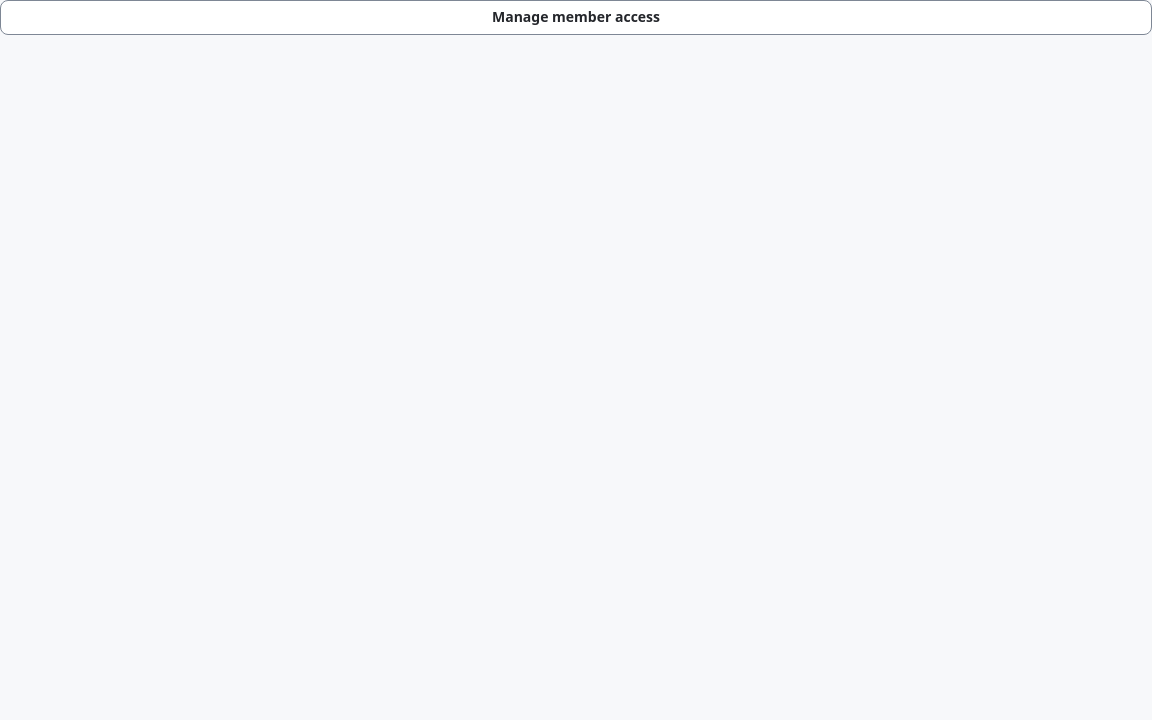
Scenario: organization member controls › withholds roster and management actions when current membership is a viewer
The width and height of the screenshot is (1152, 720).
Click the button "Manage member access" at (576, 17), box [0,0,1151,35]
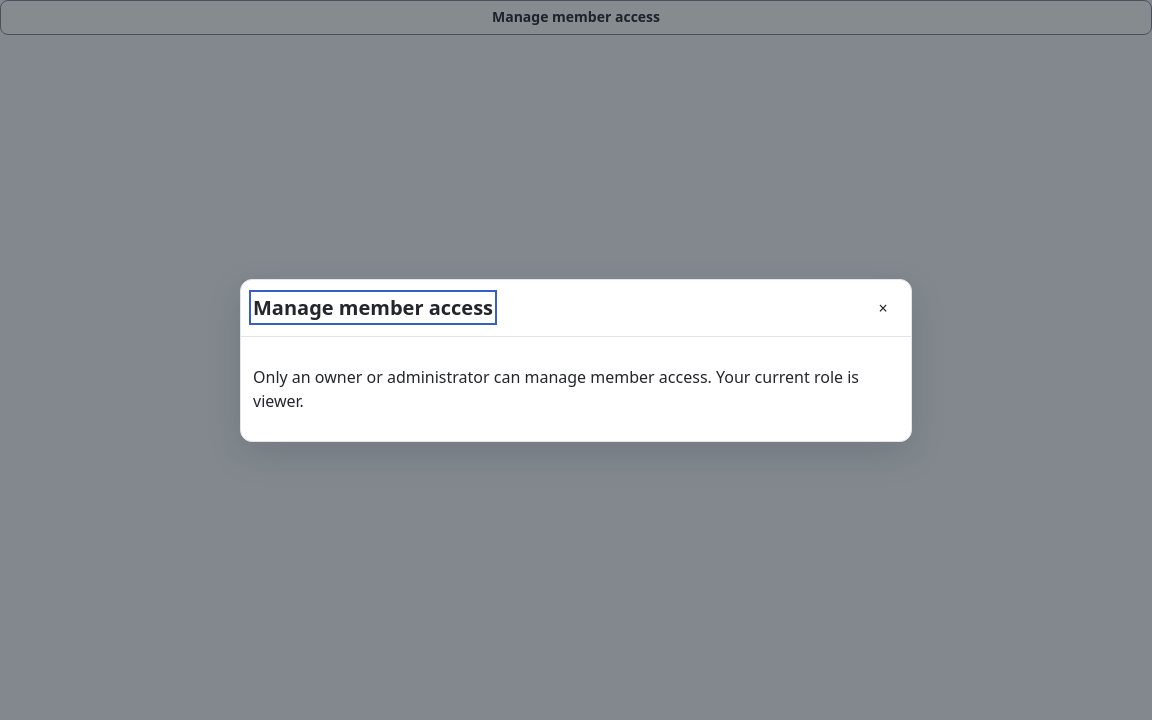
Check: the message shows "Only an owner or administrator", box [253,366,859,388]
